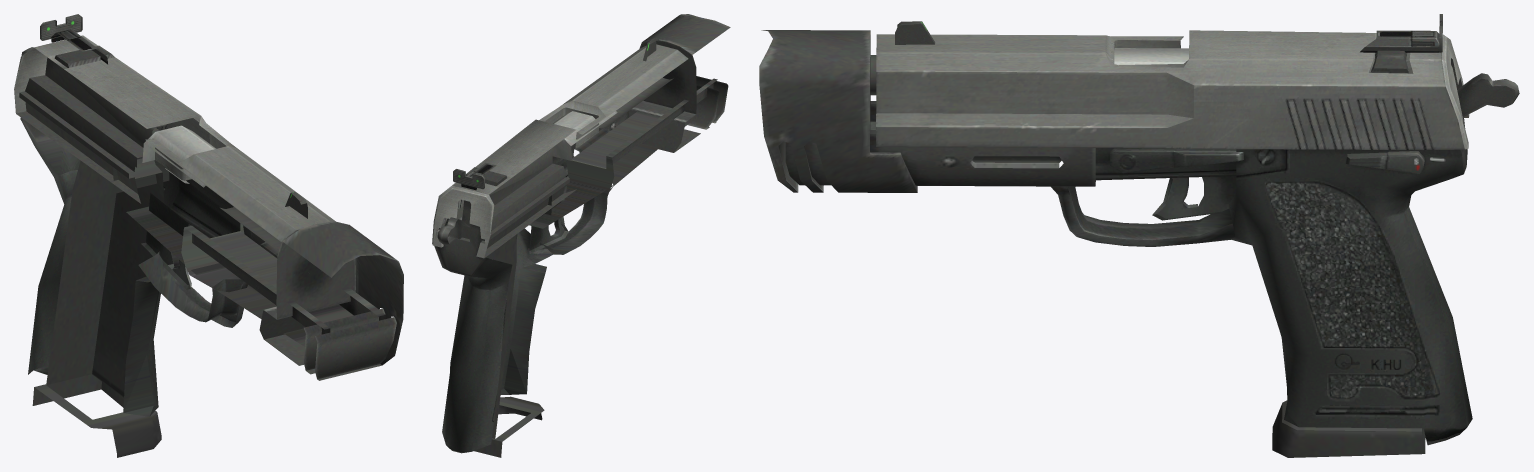
Rendered from hl3-Pistol.fbx.
The picture shows the model from 3 angles, left to right: view 1: azimuth 30°, elevation 25°; view 2: azimuth 150°, elevation 25°; view 3: azimuth 270°, elevation 25°; orthographic projection. The views are drawn at different scales.
Visible parts, largest first — view 1: Pistol_Body, Pistol_Slide; view 2: Pistol_Body, Pistol_Slide; view 3: Pistol_Body, Pistol_Slide, Pistol_Slide_Release.
Part boxes in pixels (bbox=[...]): Pistol_Body: bbox=[16, 47, 403, 457]; Pistol_Slide: bbox=[14, 14, 335, 241]; Pistol_Body: bbox=[434, 14, 730, 457]; Pistol_Slide: bbox=[432, 38, 688, 258]; Pistol_Body: bbox=[759, 30, 1519, 457]; Pistol_Slide: bbox=[876, 14, 1469, 149]; Pistol_Slide_Release: bbox=[1346, 151, 1424, 173].
Size of the model in its own units: 159 by 648 by 1067.
